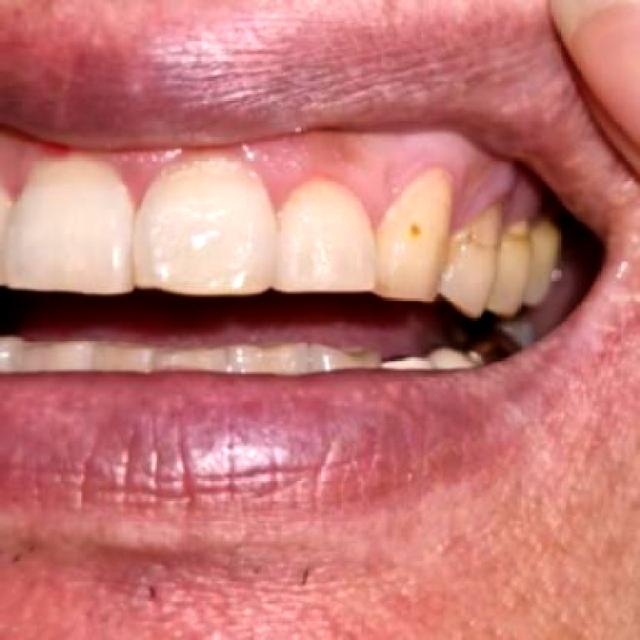Plaque: (463, 202, 516, 253), (397, 206, 432, 243), (503, 211, 536, 245)
